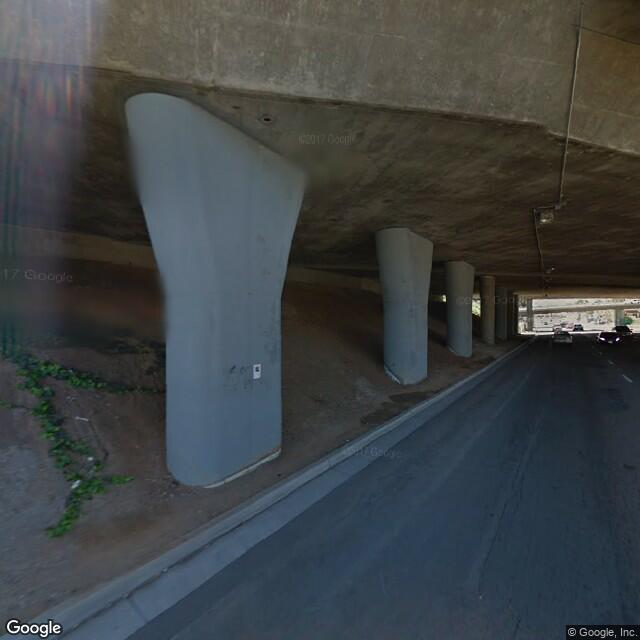litter: (62, 476, 86, 495)
